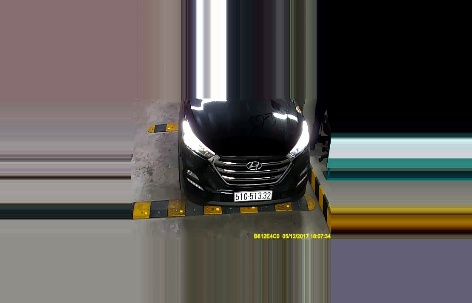plate: (233, 186, 272, 201)
